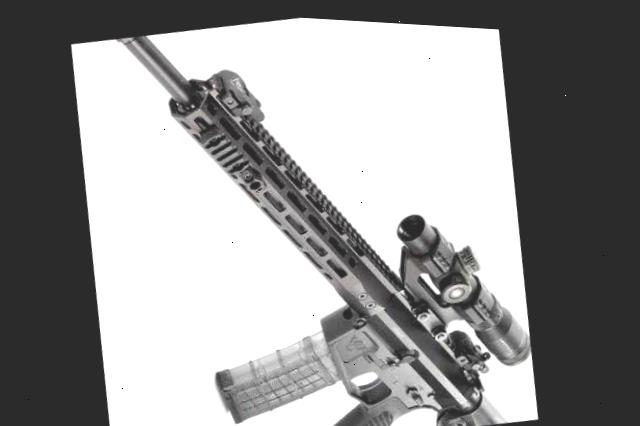rifle: (58, 4, 567, 426)
